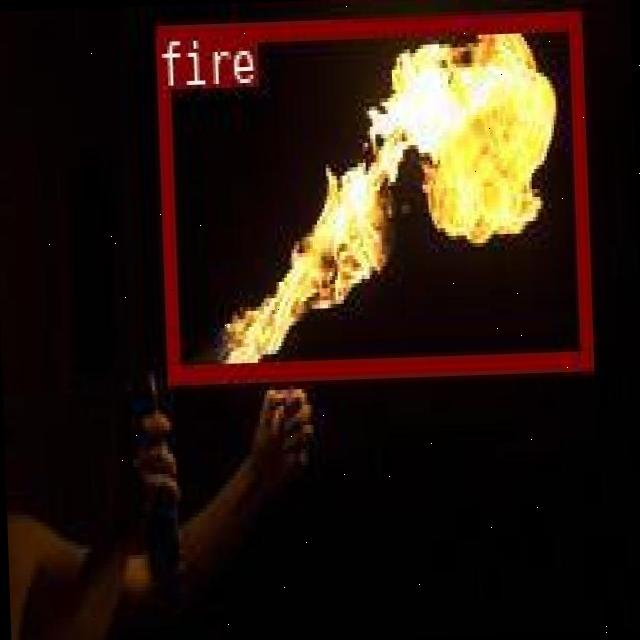fire: (152, 9, 590, 380)
